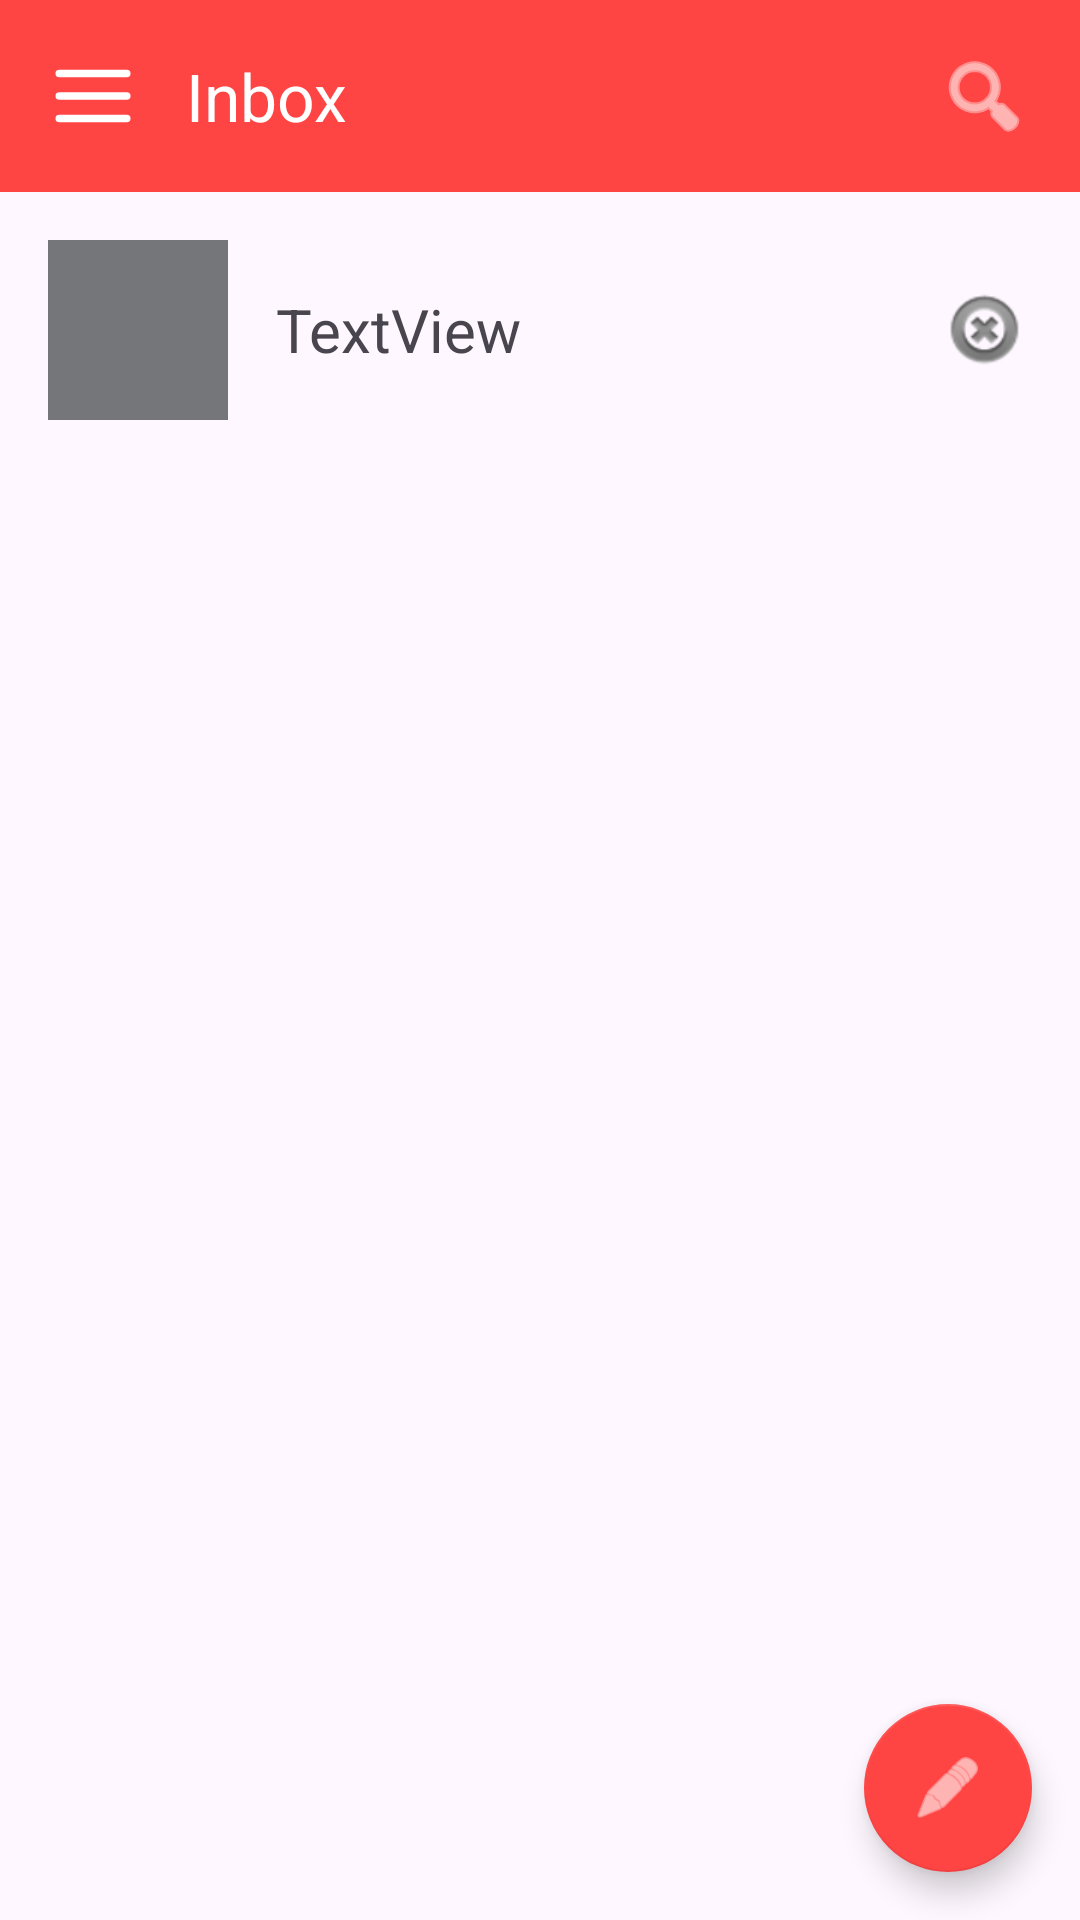

Where icons sit on this 1080×1920 app screen, as (x1=x1, y1=y1, x2=x2, y2=y2):
Create new mail: (x1=864, y1=1704, x2=1032, y2=1872)
notification clear all: (x1=950, y1=295, x2=1019, y2=363)
Opens a global menu: (x1=55, y1=69, x2=131, y2=123)
Search for an entry: (x1=949, y1=61, x2=1019, y2=132)
